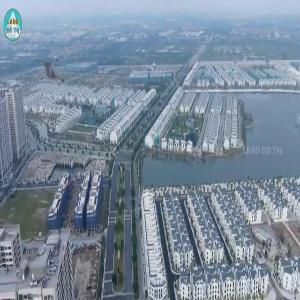drone: (36, 52, 78, 94)
